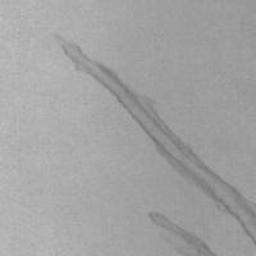Water spot: (51, 32, 256, 246), (147, 211, 220, 256)
